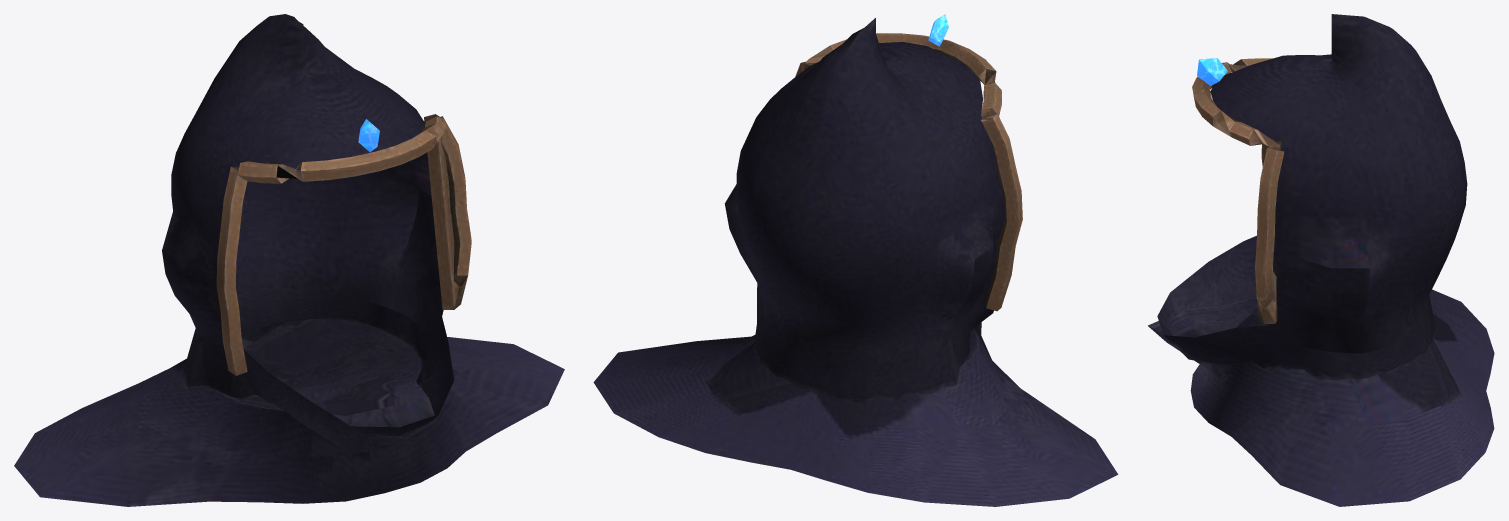
File: Capuz_do_Mago_nivel50.glb
3 views of the same model, side by side, from view 1: azimuth 30°, elevation 25°; view 2: azimuth 150°, elevation 25°; view 3: azimuth 270°, elevation 25° (orthographic). The views are drawn at different scales.
Parts seen in each view (by area): view 1: capuz_do_mago_nivel50; view 2: capuz_do_mago_nivel50; view 3: capuz_do_mago_nivel50.
Part boxes in pixels (<box>): capuz_do_mago_nivel50: <box>14,14,564,506</box>; capuz_do_mago_nivel50: <box>593,14,1118,506</box>; capuz_do_mago_nivel50: <box>1148,14,1494,506</box>.
Bounding box in the file's own units: 0.4628 × 0.348 × 0.2919.
1 material, 1 textured.
